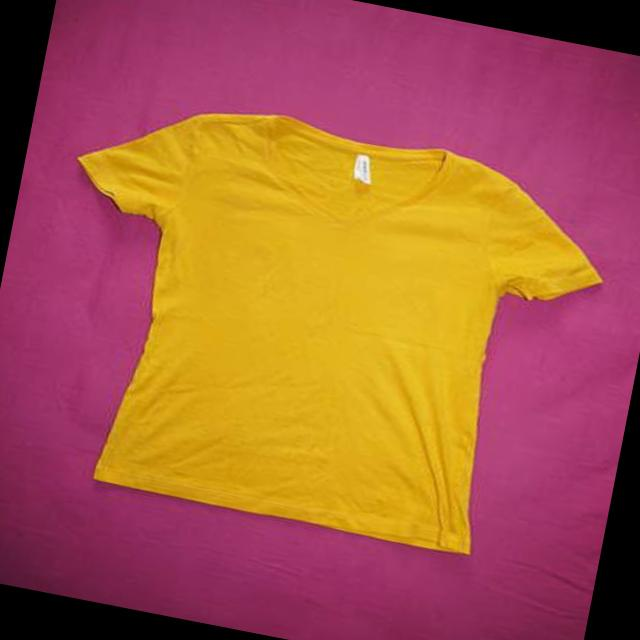T_SHIRT: (10, 75, 635, 586)
